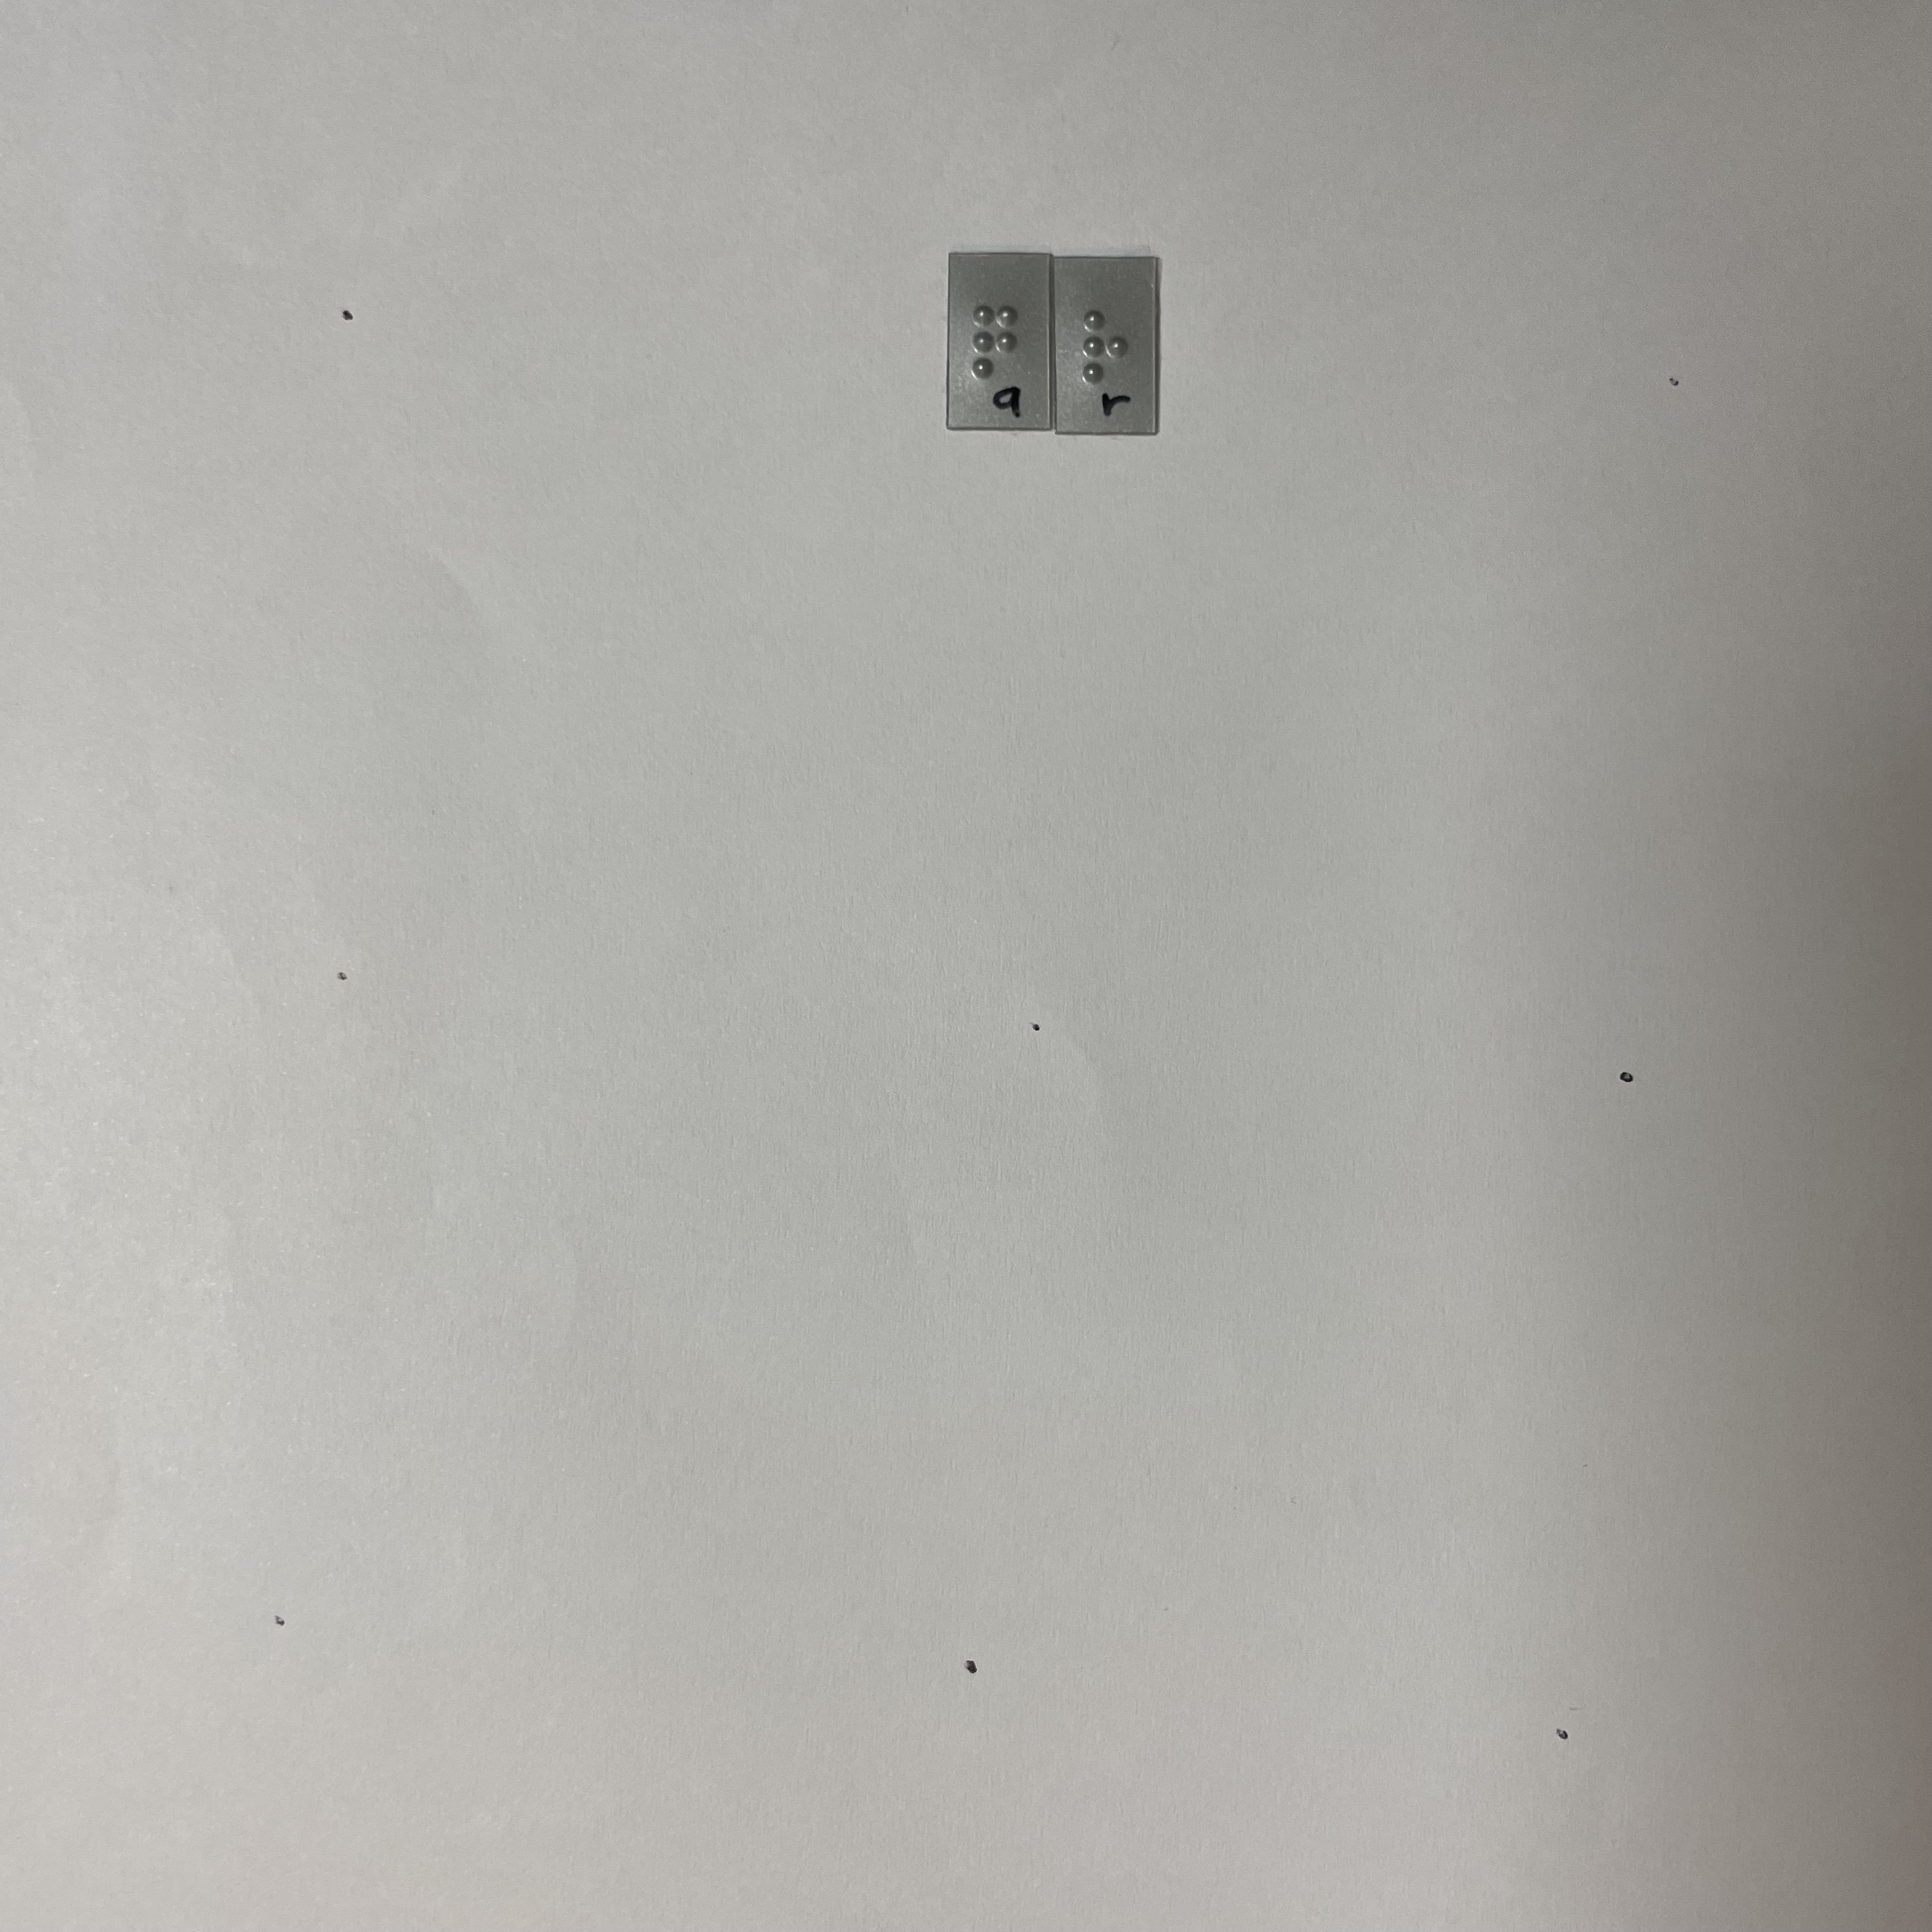q: (965, 289, 1025, 386)
r: (1077, 296, 1133, 391)
